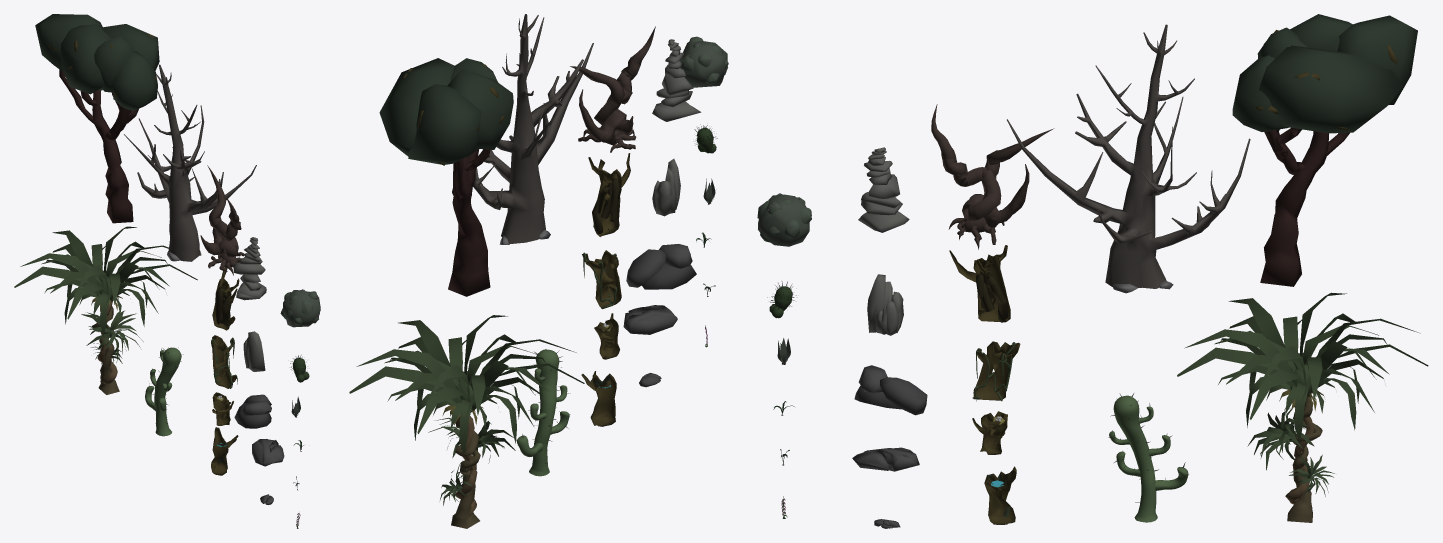
The model's file is DFAssets_FourthRoundOBJ.obj.
3 renders of one model, left to right at view 1: azimuth 30°, elevation 25°; view 2: azimuth 150°, elevation 25°; view 3: azimuth 270°, elevation 25°, orthographic. The views are drawn at different scales.
Visible parts, largest first — view 1: s.0256, s.0185, s.0188, s.0187, n.0299, s.0177, n.0300, s.0186, n.0302, s.0456, s.0184, s.0849 (+16 smaller); view 2: s.0256, s.0177, s.0188, s.0184, n.0299, s.0185, s.0456, n.0300, n.0302, s.0849, s.0140, s.0298 (+16 smaller); view 3: s.0256, s.0184, s.0188, n.0299, s.0177, s.0456, n.0300, s.0849, s.0187, n.0302, s.0140, s.0229 (+11 smaller).
Boxes of the visible parts, <box> form: s.0256: <box>124,64,256,261</box>; s.0185: <box>60,24,111,94</box>; s.0188: <box>92,89,133,223</box>; s.0187: <box>112,50,157,110</box>; n.0299: <box>20,226,168,295</box>; s.0177: <box>35,14,102,72</box>; n.0300: <box>14,241,197,319</box>; s.0186: <box>94,36,132,92</box>; n.0302: <box>41,244,169,304</box>; s.0456: <box>200,196,241,267</box>; s.0184: <box>102,24,159,70</box>; s.0849: <box>154,347,181,436</box>; s.0256: <box>473,14,593,244</box>; s.0177: <box>408,84,481,164</box>; s.0188: <box>448,157,490,296</box>; s.0184: <box>379,58,454,156</box>; n.0299: <box>356,315,576,403</box>; s.0185: <box>447,69,513,149</box>; s.0456: <box>579,26,655,145</box>; n.0300: <box>349,334,584,433</box>; n.0302: <box>384,337,547,415</box>; s.0849: <box>529,349,559,476</box>; s.0140: <box>681,41,727,87</box>; s.0298: <box>451,416,480,528</box>; s.0256: <box>1007,24,1250,288</box>; s.0184: <box>1258,45,1403,133</box>; s.0188: <box>1260,131,1328,286</box>; n.0299: <box>1184,292,1420,387</box>; s.0177: <box>1337,15,1417,104</box>; s.0456: <box>931,104,1029,232</box>; n.0300: <box>1177,313,1428,419</box>; s.0849: <box>1113,395,1157,522</box>; s.0187: <box>1232,55,1288,131</box>; n.0302: <box>1214,316,1389,400</box>; s.0140: <box>758,194,809,246</box>; s.0229: <box>973,341,1020,400</box>.
Bounding box in the file's own units: 13.32 × 31.29 × 38.09.
